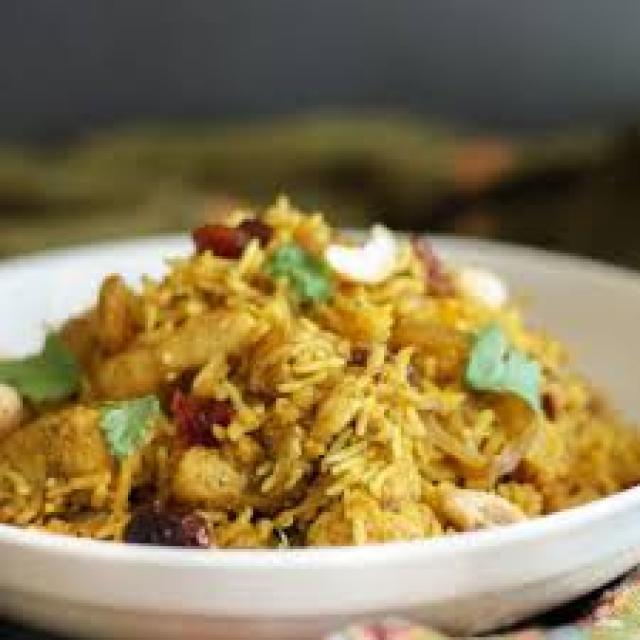chicken biryani: (13, 239, 605, 531)
